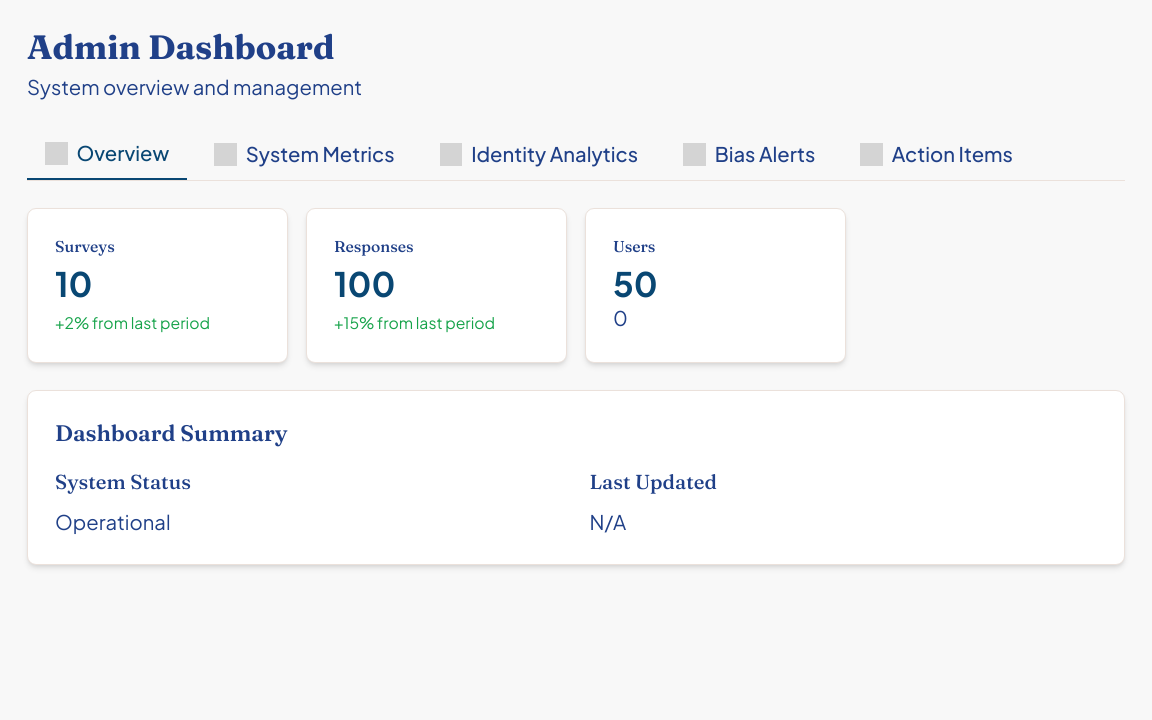
Test: AdminDashboard › Component Integration › should render IdentityAnalytics component with correct props
Click the button "Identity Analytics" at (539, 155), box [422,129,656,180]
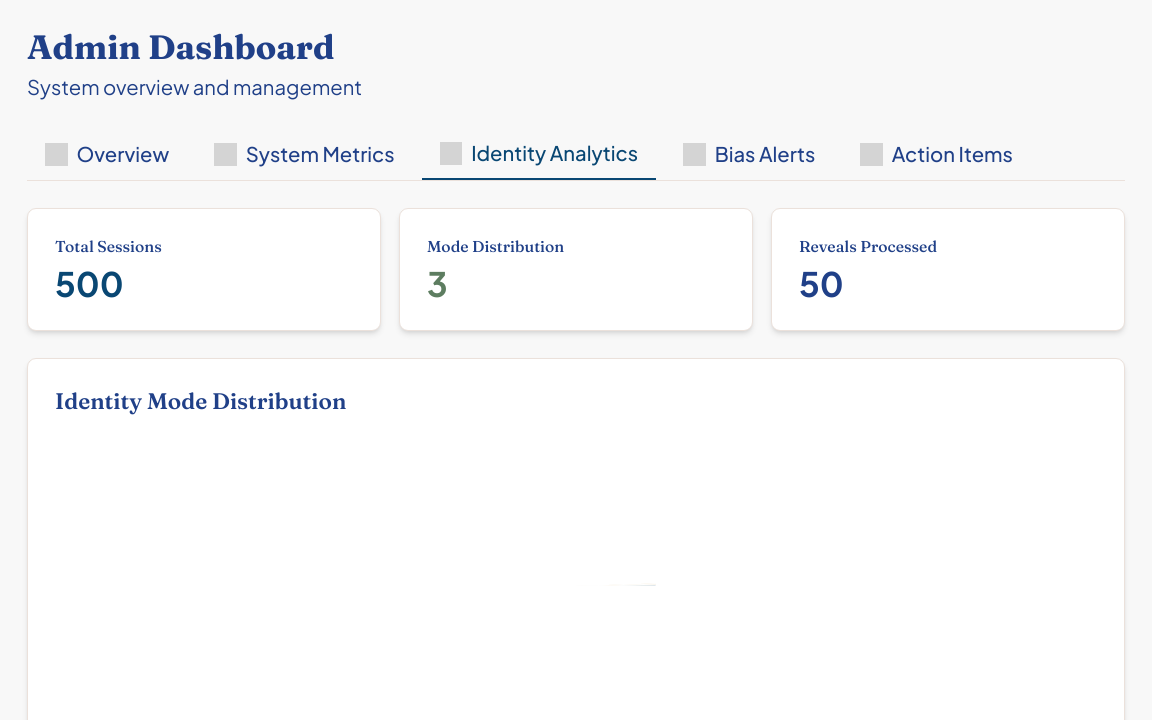
expect the heading "Total Sessions" is shown: met, box [55,237,162,256]
expect the heading "Mode Distribution" is shown: met, box [427,237,564,256]
